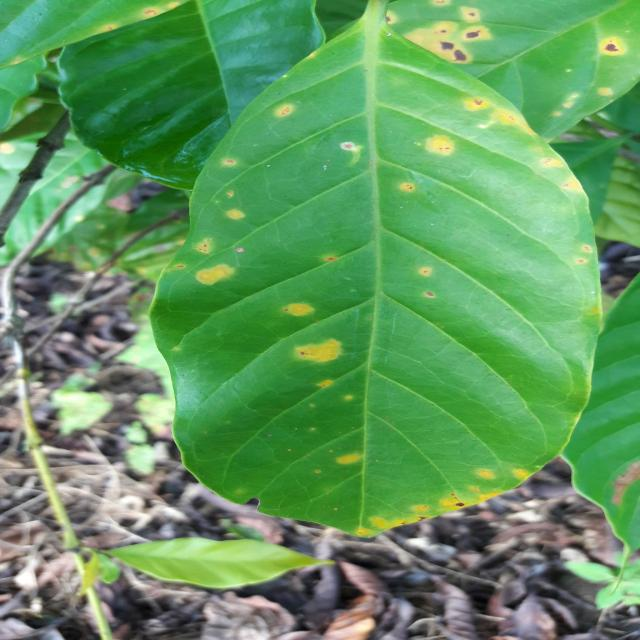Enfermedad-Roya: (152, 15, 606, 538)
